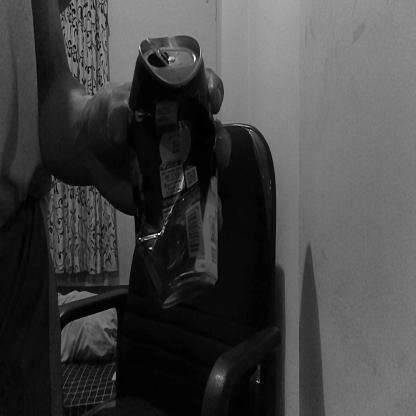alumunium_can: (128, 35, 221, 309)
